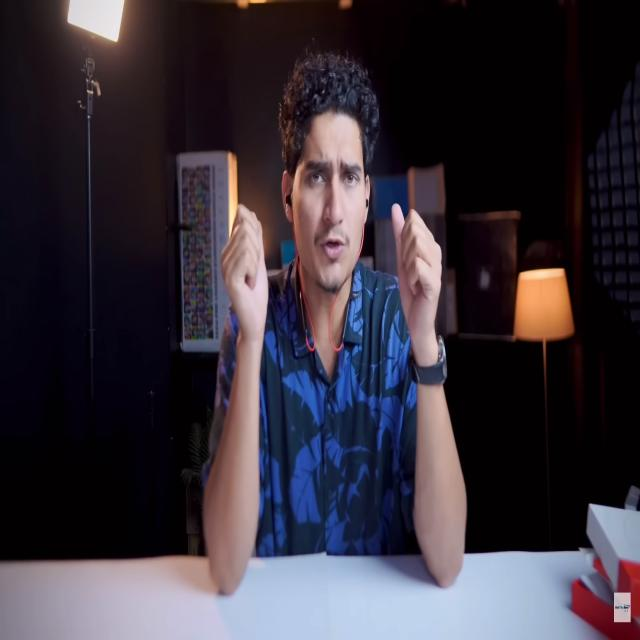Neckband: (285, 194, 369, 352)
